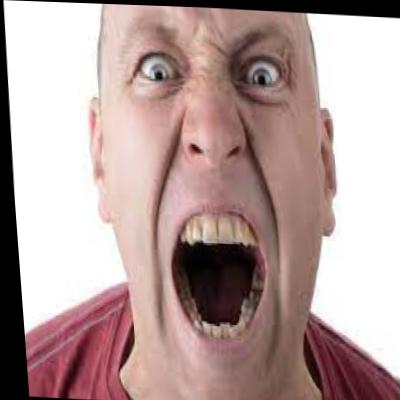angry: (79, 2, 350, 391)
